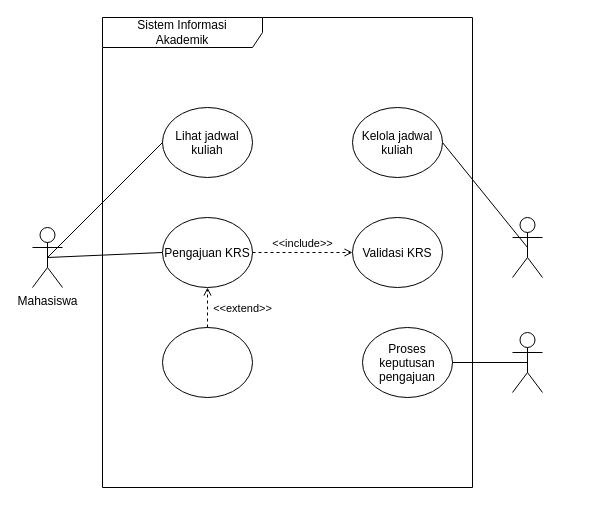
Image size: 589x505. Some labels were removed from this diagram. Each missing label, with the centre of its shape:
"Admin Akademik" goes at (527,247).
"Cetak bukti pengajuan" goes at (207,362).
"Dosen Wali" goes at (527,362).
